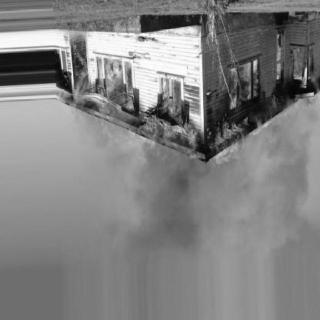Fire: (138, 70, 198, 163), (68, 32, 98, 122), (94, 58, 132, 128), (268, 33, 286, 149), (223, 57, 260, 109), (207, 120, 249, 164), (289, 42, 311, 115)
